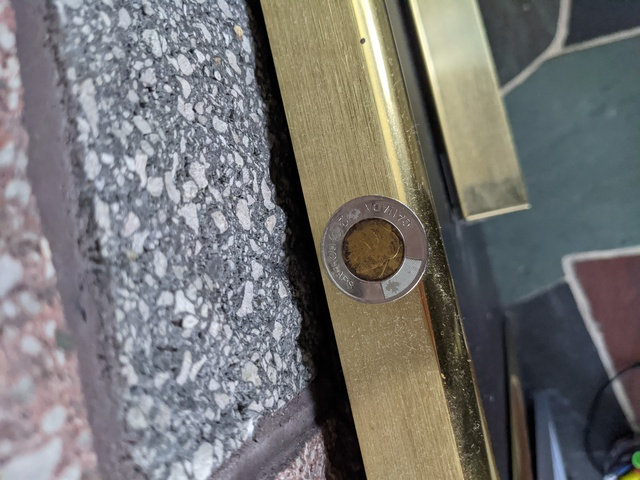twonie: (317, 182, 432, 304)
